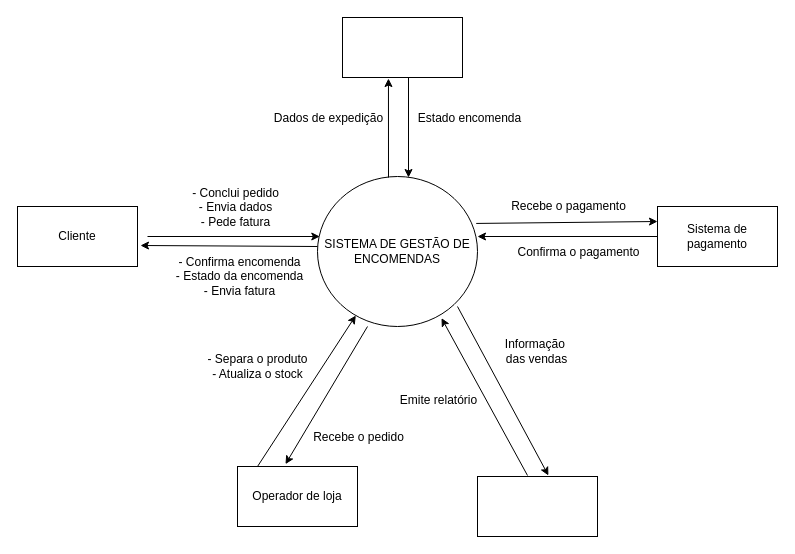
Image size: 795x554. Some labels were removed from this diagram. Here are the shapes that lost their labels. From the top down, the centre of each, then its label:
pixel 402 47: Transportadora
pixel 537 506: Gestor
